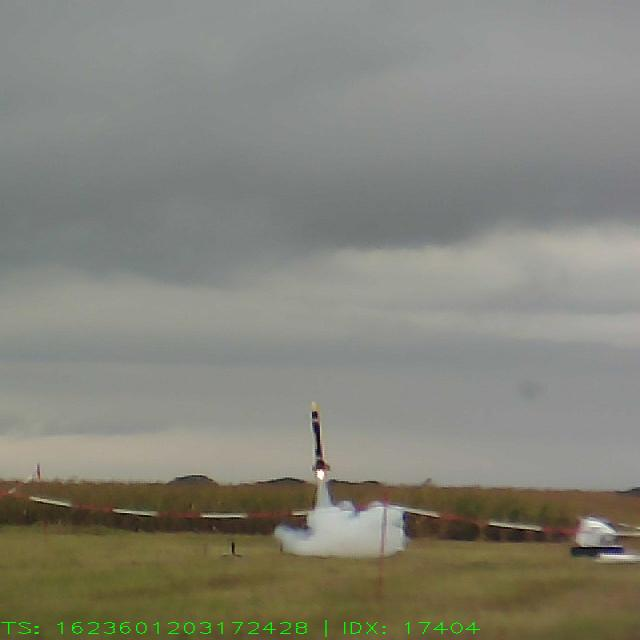Rocket: (310, 400, 330, 473)
